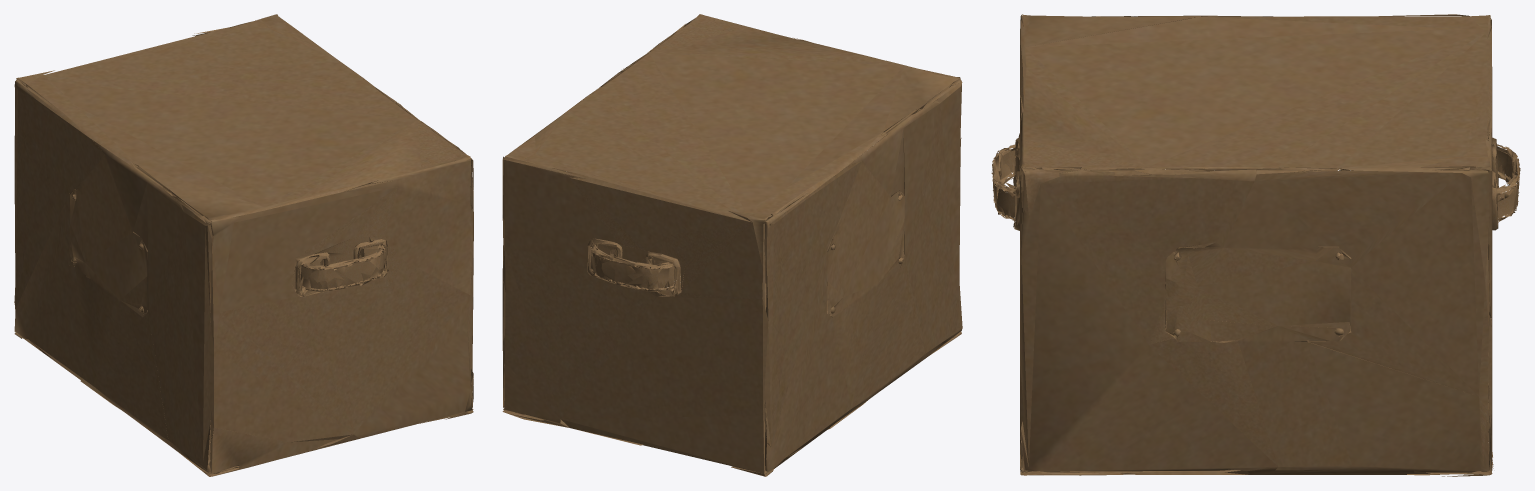
Rendered from archive_box.glb.
3 renders of one model, left to right at view 1: azimuth 30°, elevation 25°; view 2: azimuth 150°, elevation 25°; view 3: azimuth 270°, elevation 25°, orthographic. The views are drawn at different scales.
Visible parts, largest first — view 1: Mesh_0; view 2: Mesh_0; view 3: Mesh_0.
Part boxes in pixels (x1,y1,x2,y2): Mesh_0: [14, 14, 473, 476]; Mesh_0: [502, 14, 962, 476]; Mesh_0: [991, 14, 1520, 476].
Bounding box in the file's own units: 1.38 × 1.23 × 1.91.
Materials: 1 (1 with a texture image).
